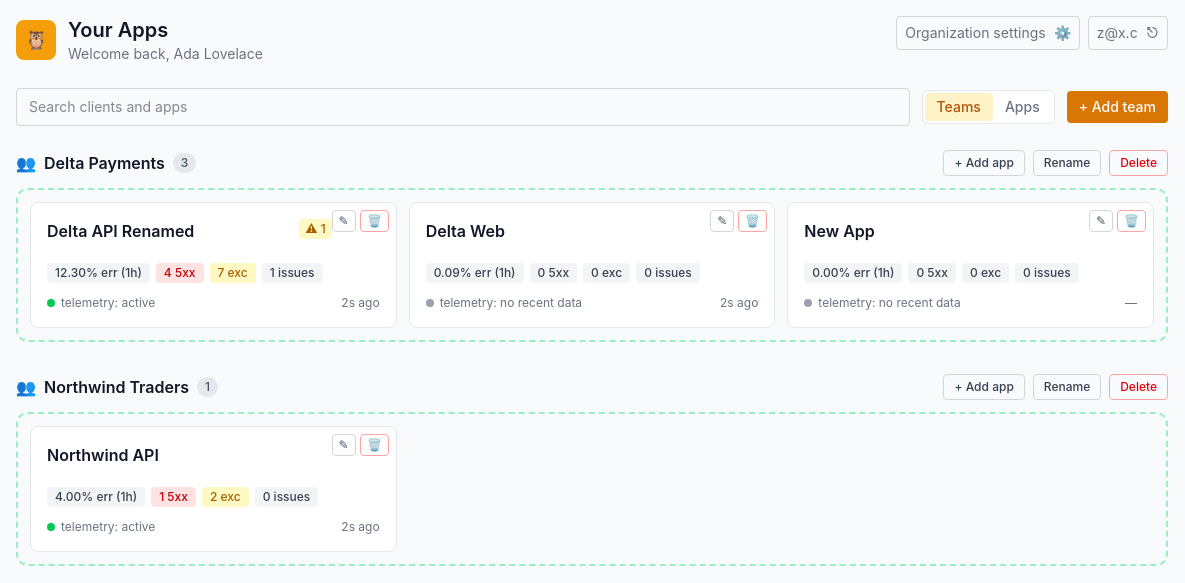
Test: OrgDashboard › deletes an app via the delete icon without navigating
This screenshot has width=1185, height=583.
Click the button named "Delete app". click: (374, 221)
box: [360, 210, 389, 232]
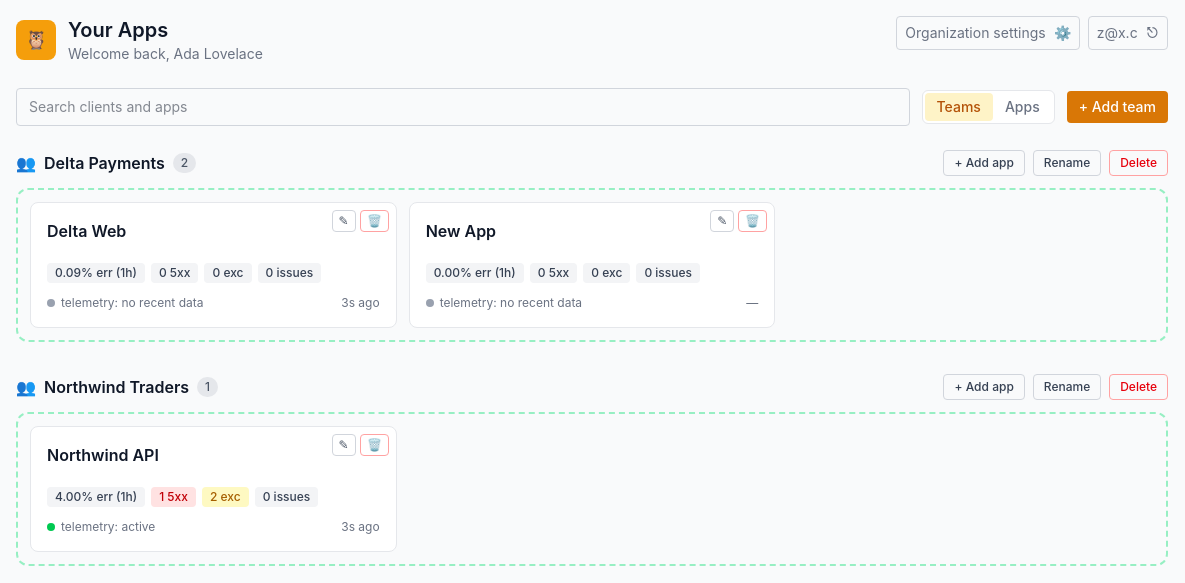
Expected: the text "Delta API" is gone
